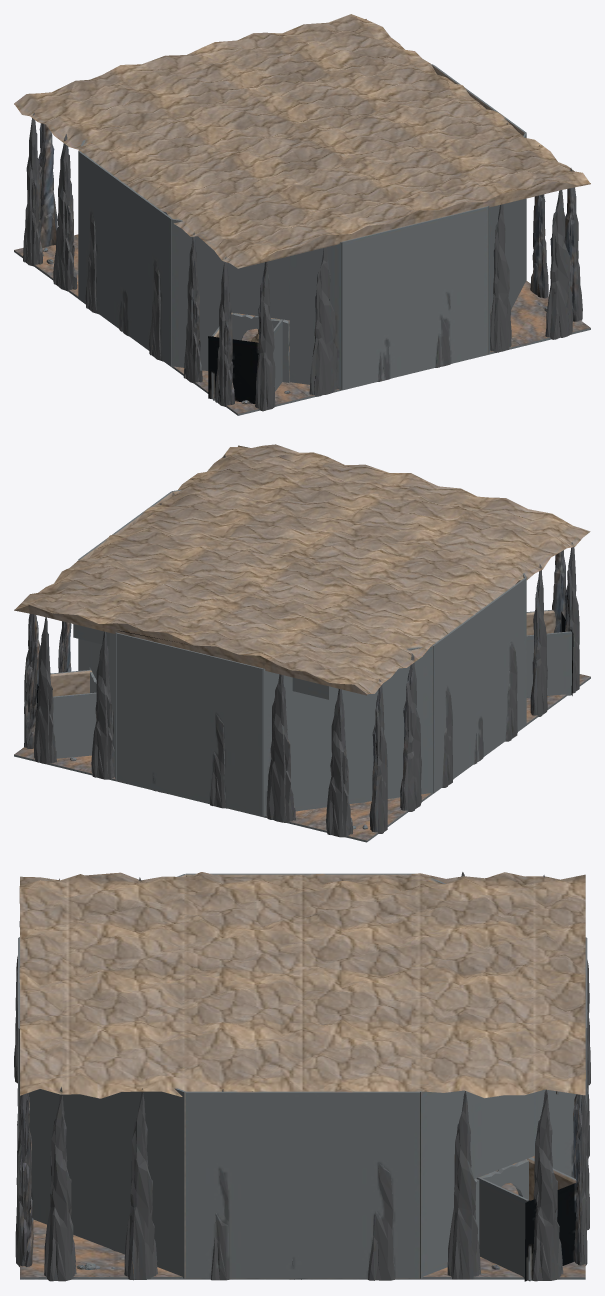
File: room.glb
The picture shows the model from 3 angles, top to bottom: view 1: azimuth 30°, elevation 25°; view 2: azimuth 150°, elevation 25°; view 3: azimuth 270°, elevation 25°; orthographic projection. The views are drawn at different scales.
Visible parts, largest first — view 1: GREAT-CAVERN; view 2: GREAT-CAVERN; view 3: GREAT-CAVERN.
Part boxes in pixels (x1=…): GREAT-CAVERN: x1=14, y1=14, x2=590, y2=415; GREAT-CAVERN: x1=14, y1=444, x2=590, y2=842; GREAT-CAVERN: x1=14, y1=872, x2=590, y2=1281.
Size of the model in its own units: 20.7 by 8.79 by 22.44.
1 material, 1 textured.
